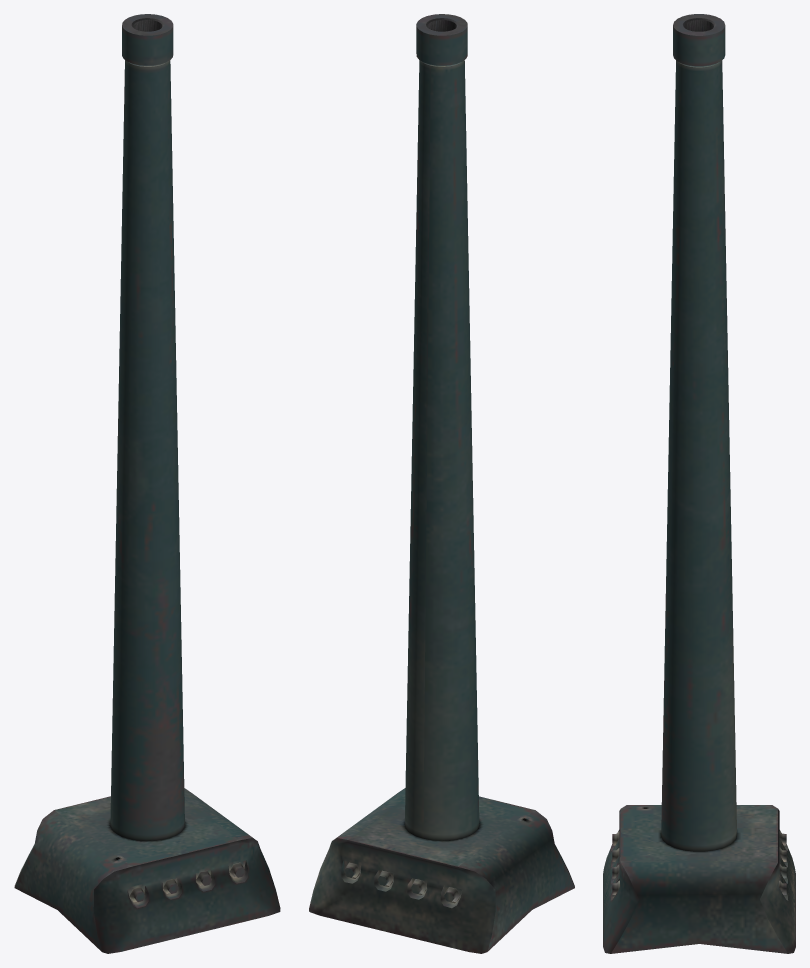
File: Gun_01.glb
3 views of the same model, side by side, from view 1: azimuth 30°, elevation 25°; view 2: azimuth 150°, elevation 25°; view 3: azimuth 270°, elevation 25° (orthographic).
Parts seen in each view (by area): view 1: set_0_group_0; view 2: set_0_group_0; view 3: set_0_group_0.
Part boxes in pixels (x1,y1,x2,y2): set_0_group_0: [14, 14, 280, 953]; set_0_group_0: [309, 14, 574, 953]; set_0_group_0: [603, 14, 795, 953].
Bounding box in the file's own units: 0.6379 × 2.95 × 0.5822.
Materials: 1 (1 with a texture image).
